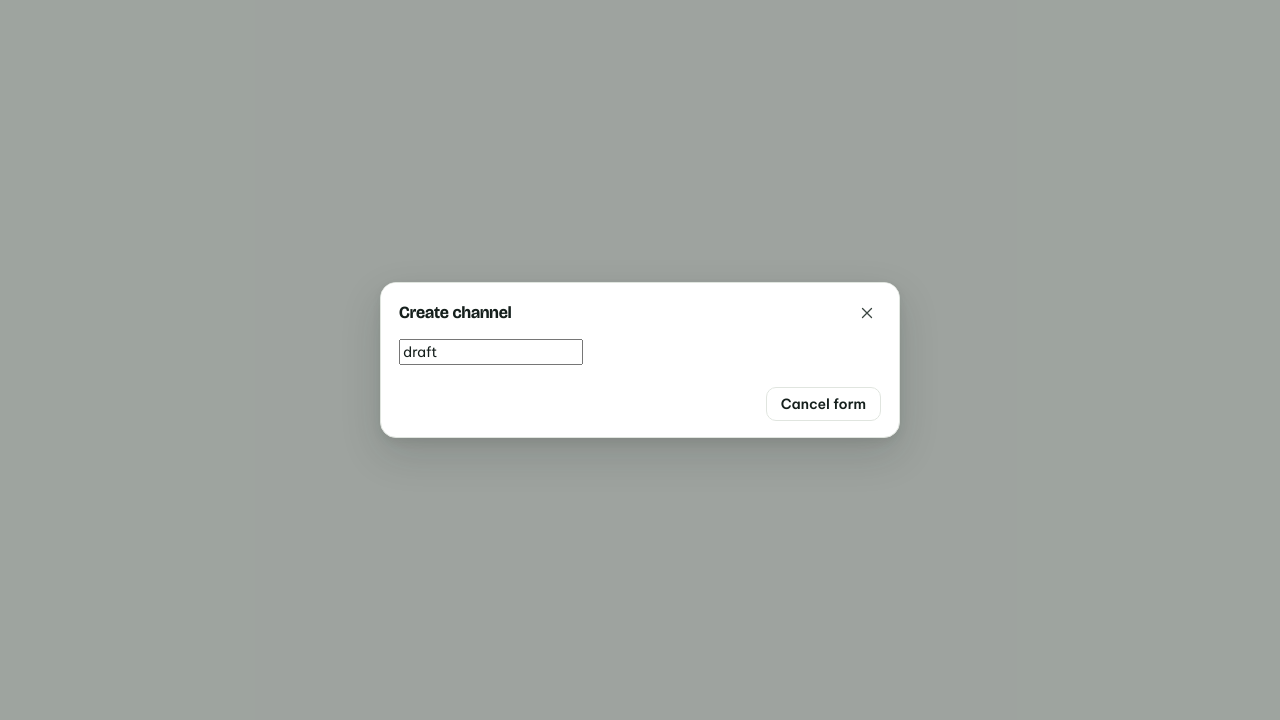
Scenario: a form with content › focus returns to the field also when the body had focus (the Safari case)
Click the button named "Close" at (867, 313), box top-left (853, 299), bottom-right (881, 327)
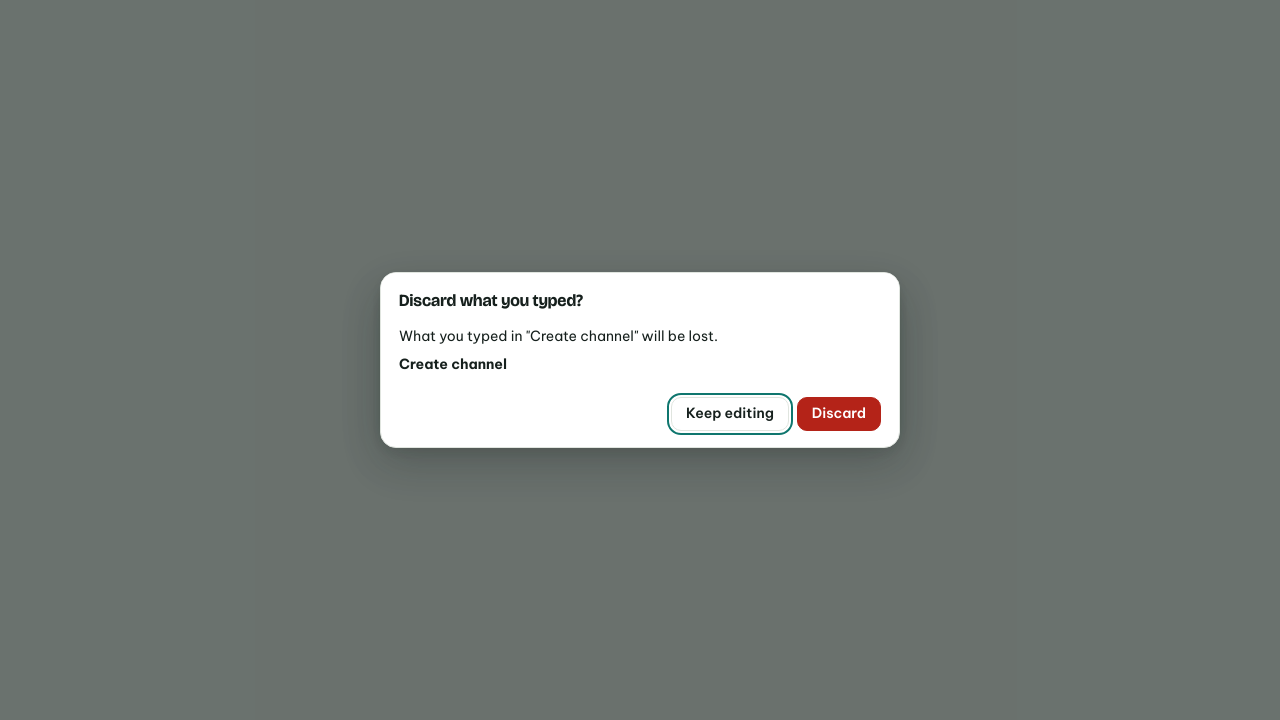
Check: the heading "Discard what you typed?" is shown, box top-left (399, 290), bottom-right (583, 311)
Press Escape
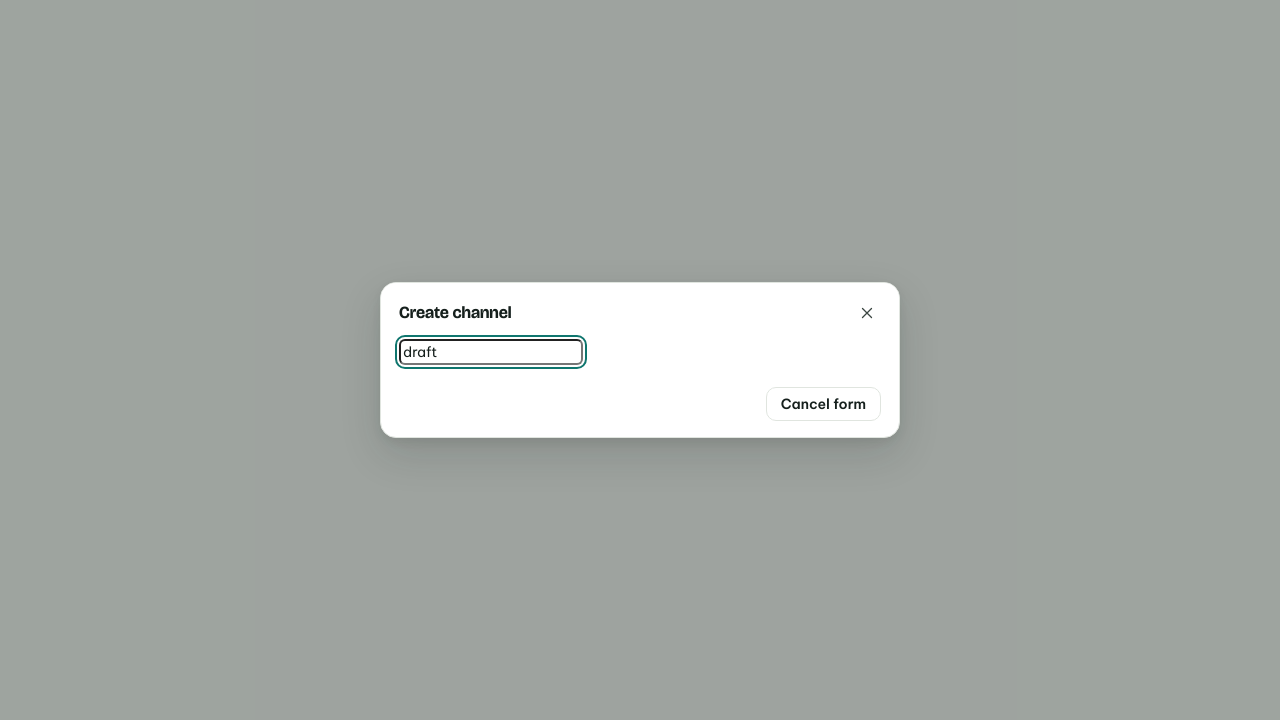
Check: the heading "Discard what you typed?" is gone
